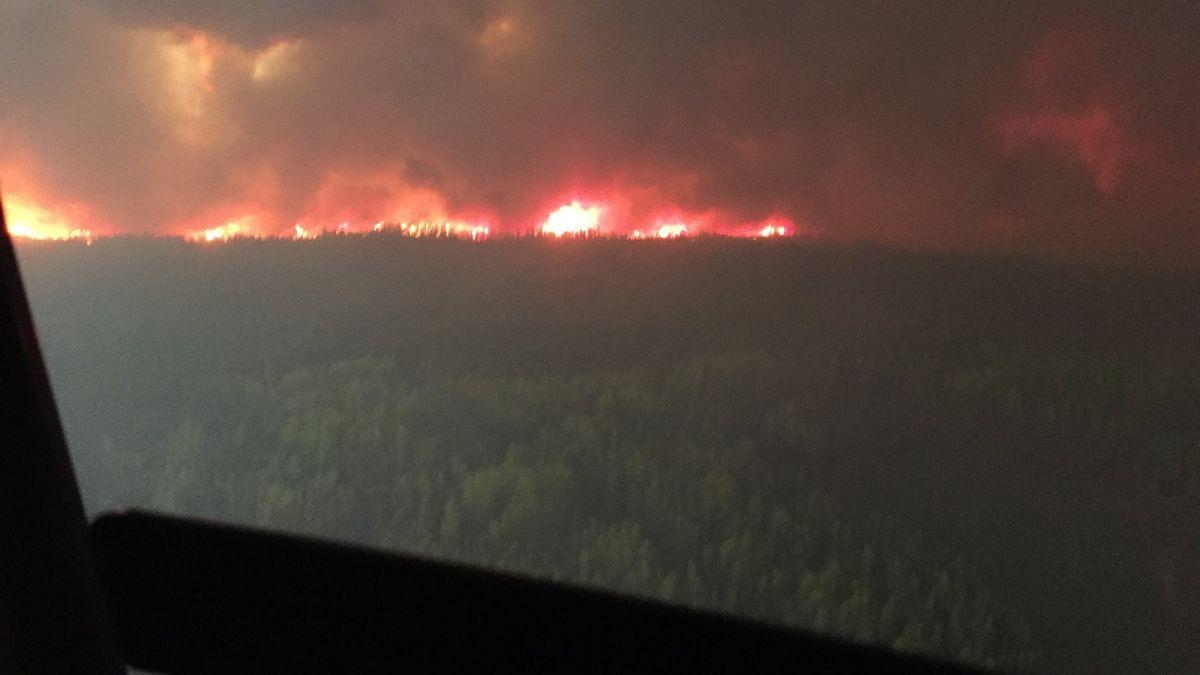fire: (198, 218, 804, 241), (12, 201, 89, 247)
